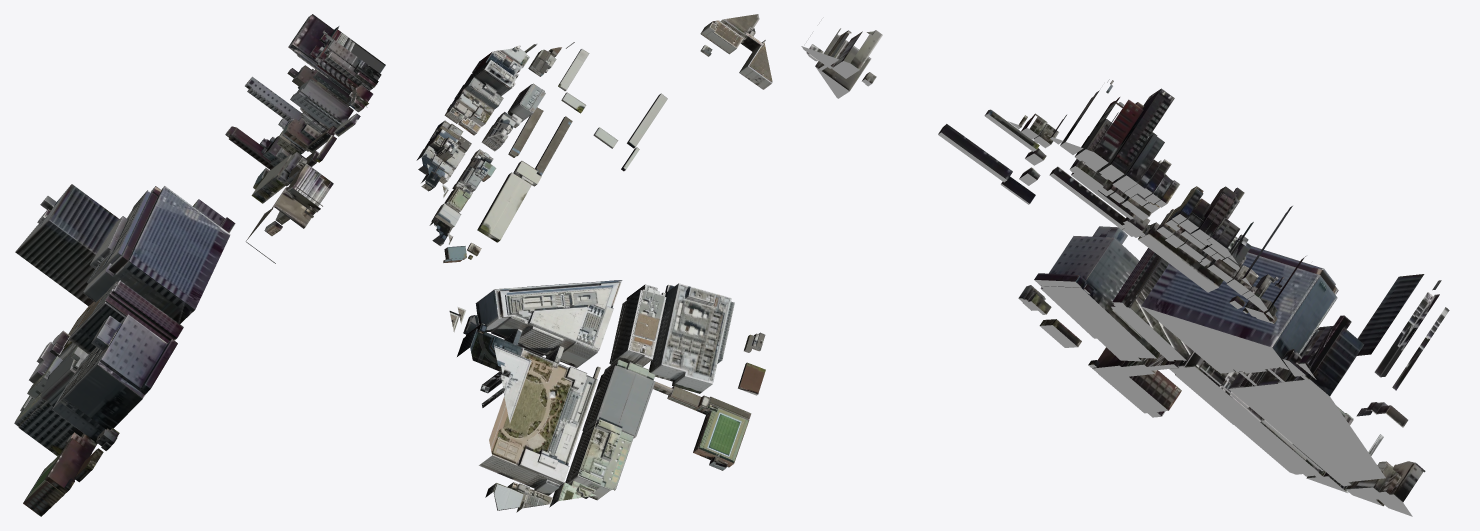
File: 19769_bldg_Building.glb
The picture shows the model from 3 angles, left to right: view 1: azimuth 30°, elevation 25°; view 2: azimuth 150°, elevation 25°; view 3: azimuth 270°, elevation 25°; orthographic projection. The views are drawn at different scales.
Size of the model in its own units: 224 by 270 by 331.
Materials: 5 (4 with a texture image).
